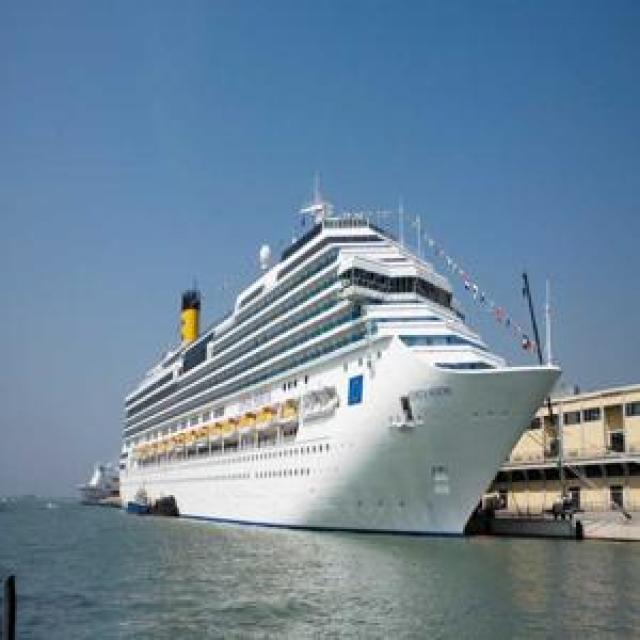passenger ship: (104, 210, 566, 538)
